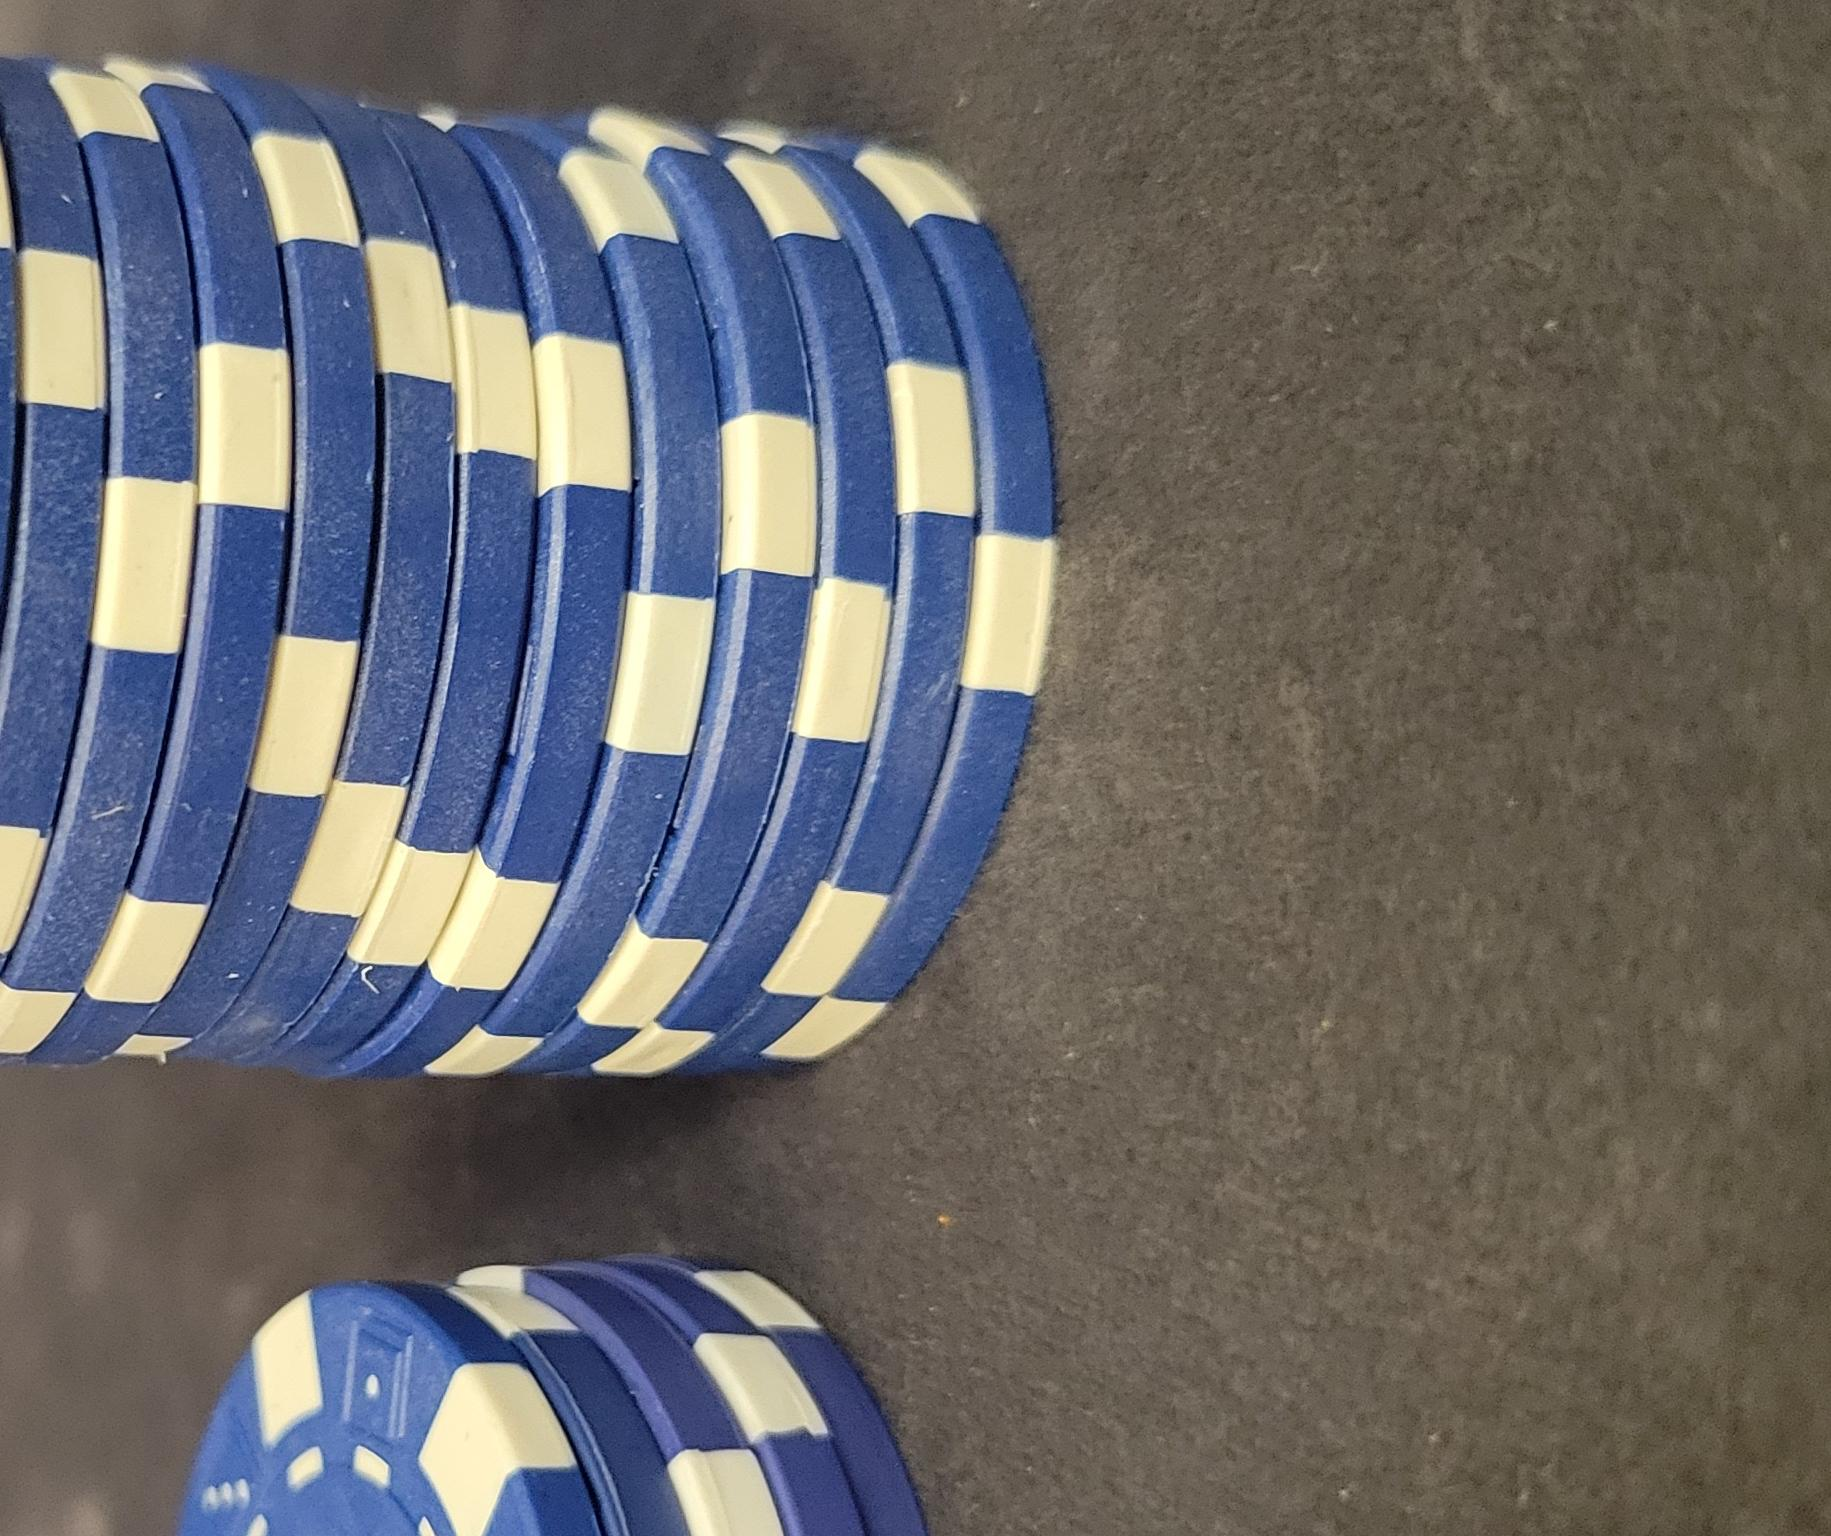Chip: (2, 198, 952, 1536)
